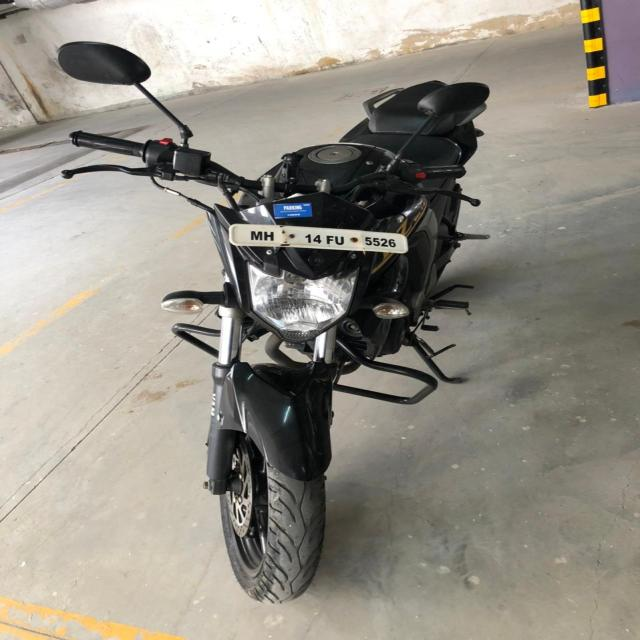license_plate: (228, 222, 409, 254)
